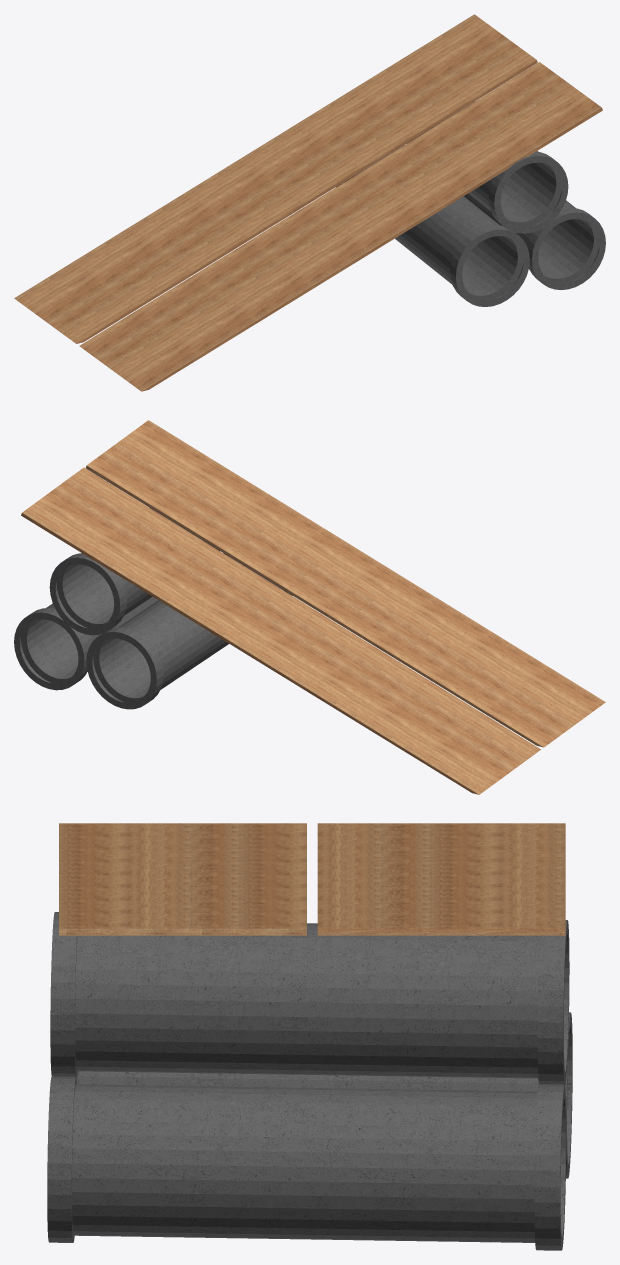
File: Ramp 11.fbx
3 views of the same model, one above another, from view 1: azimuth 30°, elevation 25°; view 2: azimuth 150°, elevation 25°; view 3: azimuth 270°, elevation 25° (orthographic). The views are drawn at different scales.
Parts seen in each view (by area): view 1: Ramp, Tube; view 2: Ramp, Tube; view 3: Tube, Ramp.
Boxes of the visible parts, x1,y1,x2,y2 form: Ramp: [14, 14, 602, 391]; Tube: [336, 101, 605, 306]; Ramp: [21, 420, 605, 794]; Tube: [14, 507, 292, 709]; Tube: [47, 912, 572, 1250]; Ramp: [59, 823, 565, 935].
Size of the model in its own units: 985 by 344 by 480.
